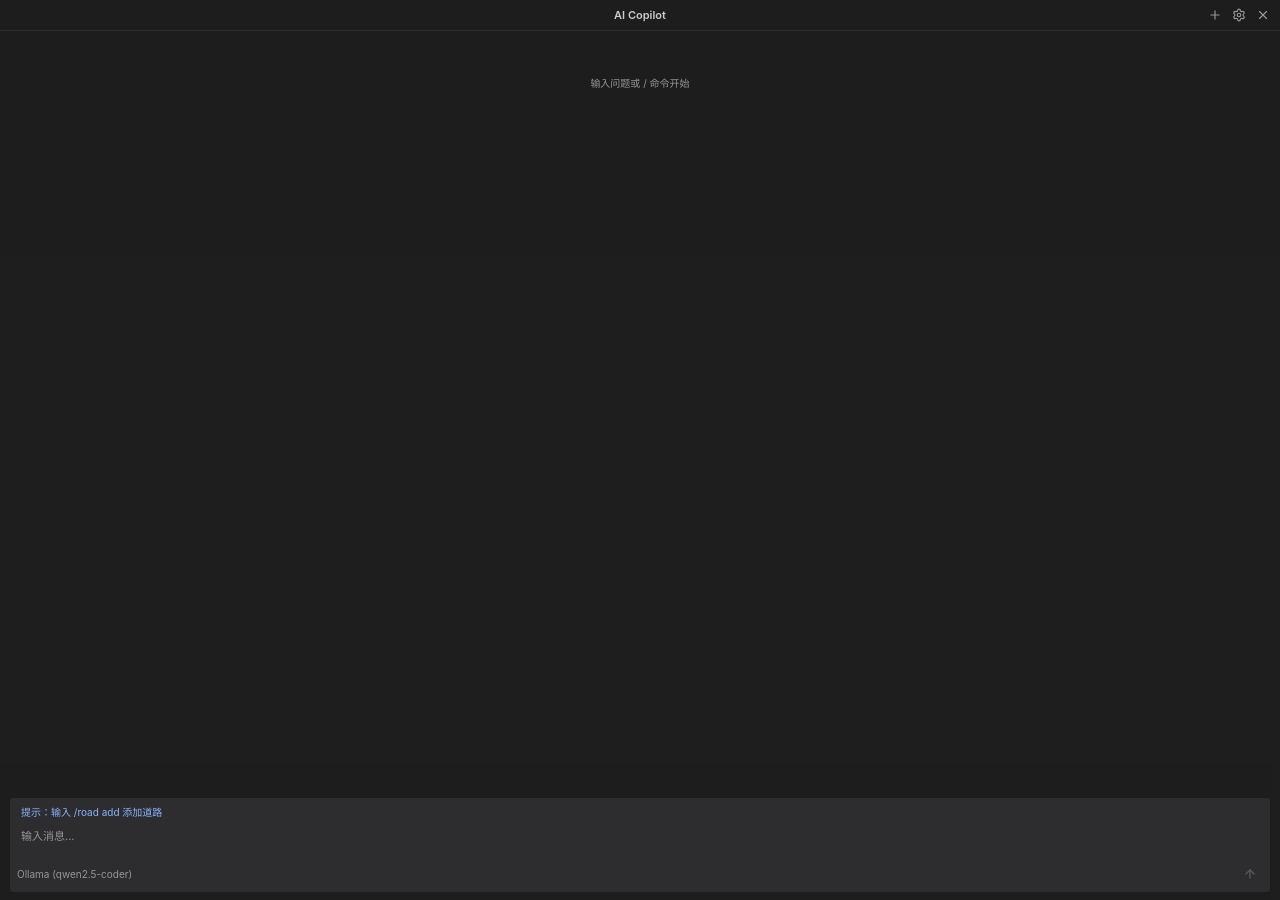
Test: CopilotPanel › 11. 新对话按钮：清空消息历史
The image size is (1280, 900).
Type "test" into the text box with placeholder "输入消息..." at (640, 839), box [11,819,1269,859]
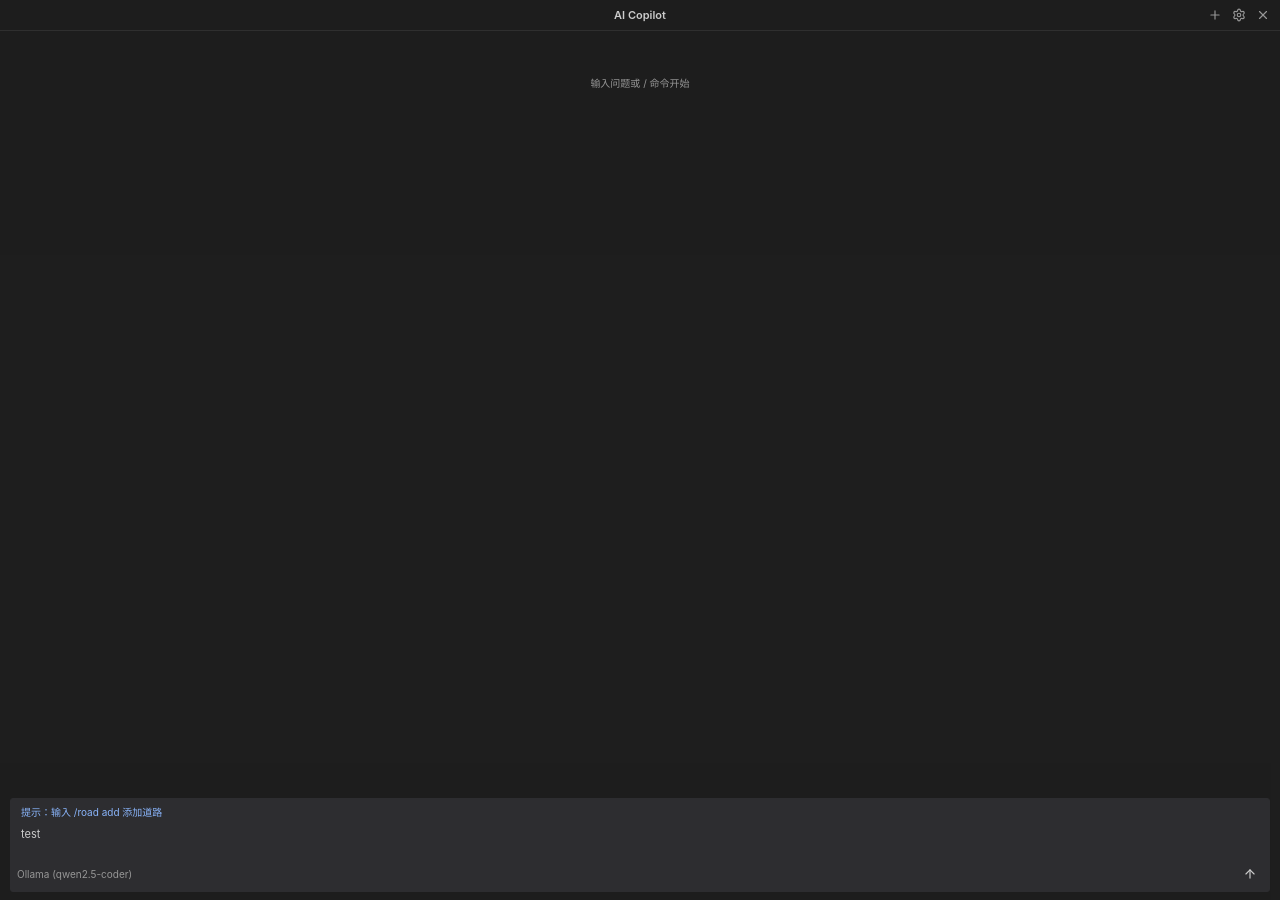
Press Enter in the text box with placeholder "输入消息...", box [11,819,1269,859]
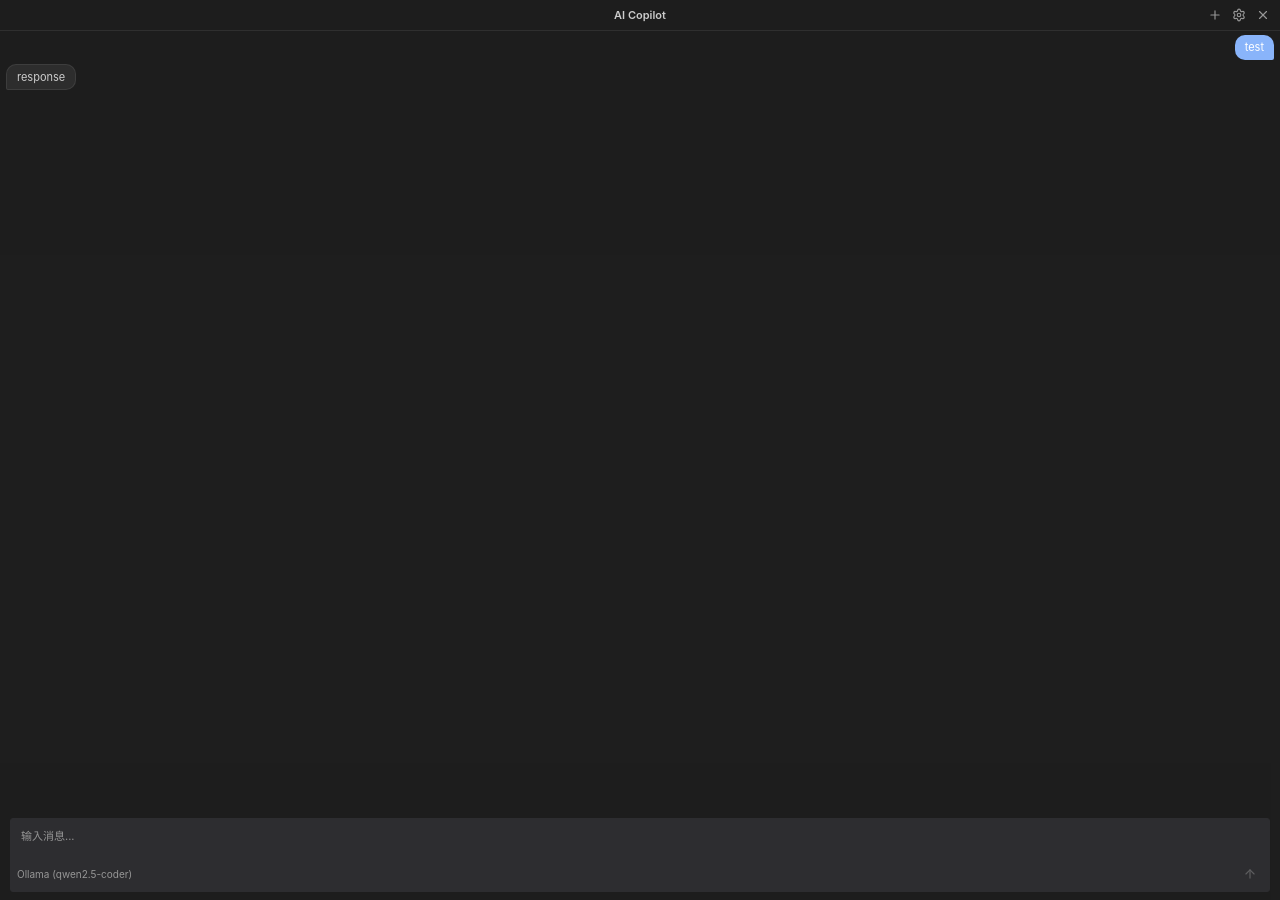
Expected: the text "test" is shown, [1235,35,1274,60]
Click the button titled "新对话" at (1215, 15), box [1204,4,1226,26]
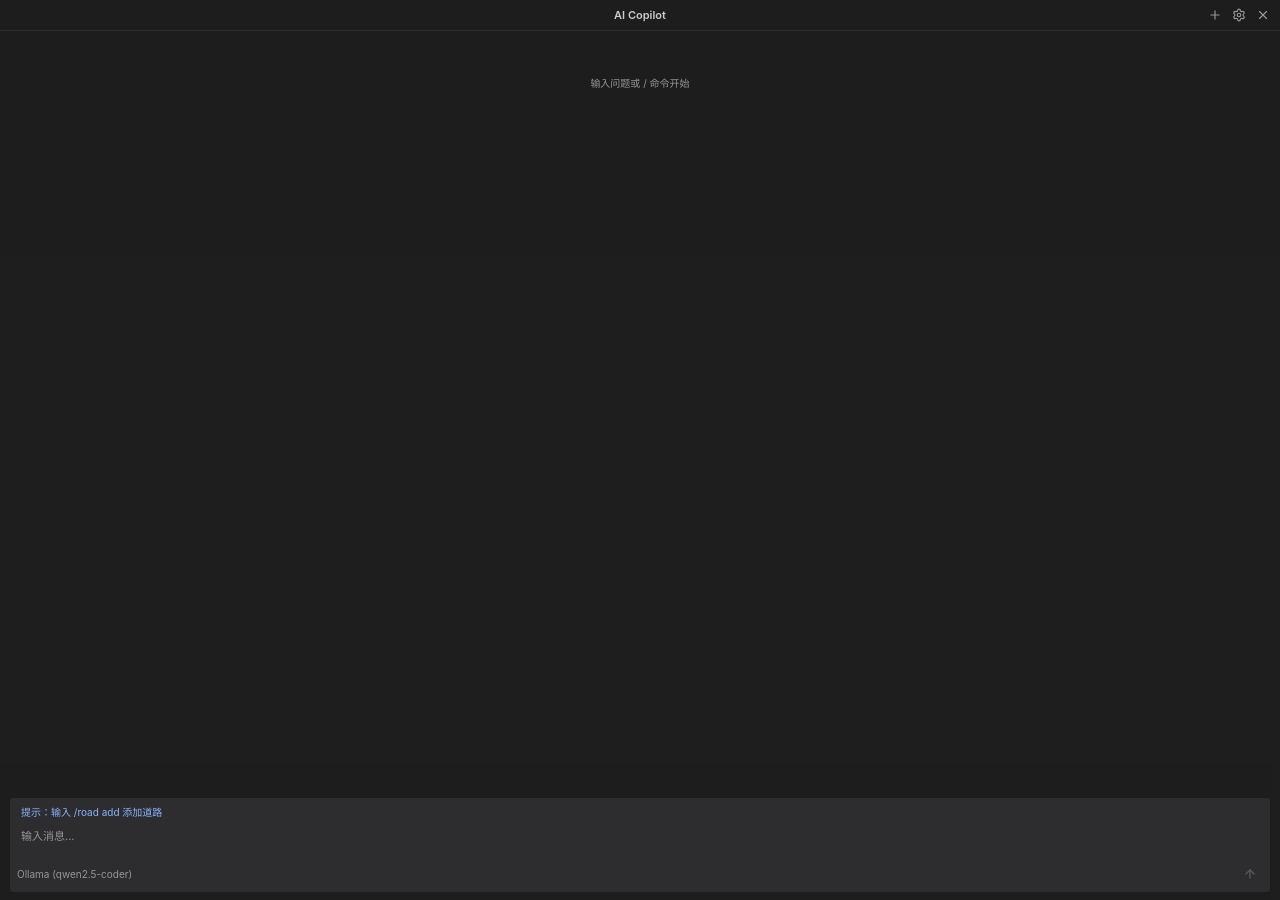
Expected: the text "test" is gone
